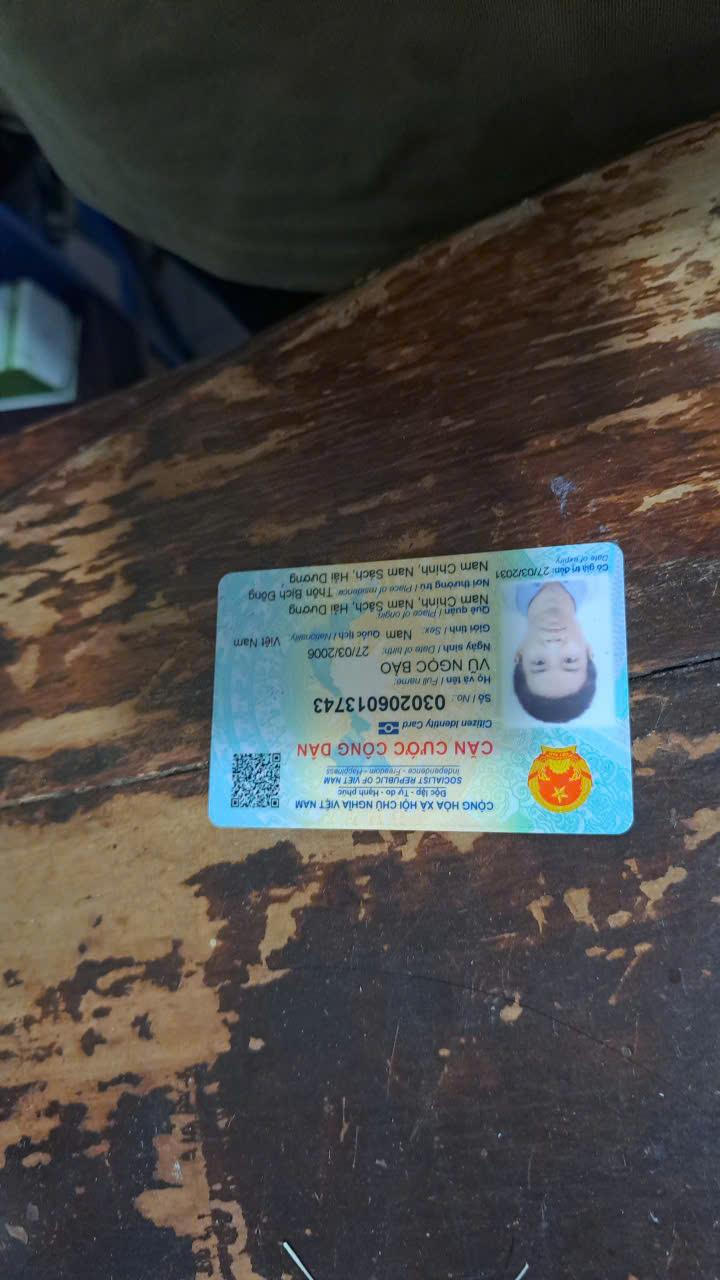cccd: (196, 531, 648, 848)
